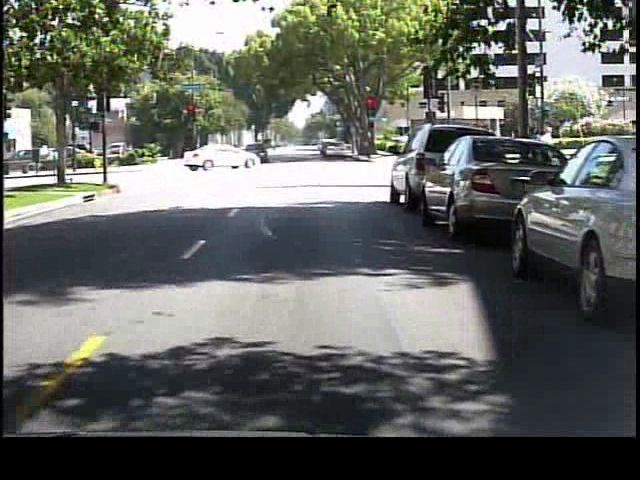person: (257, 141, 274, 170)
